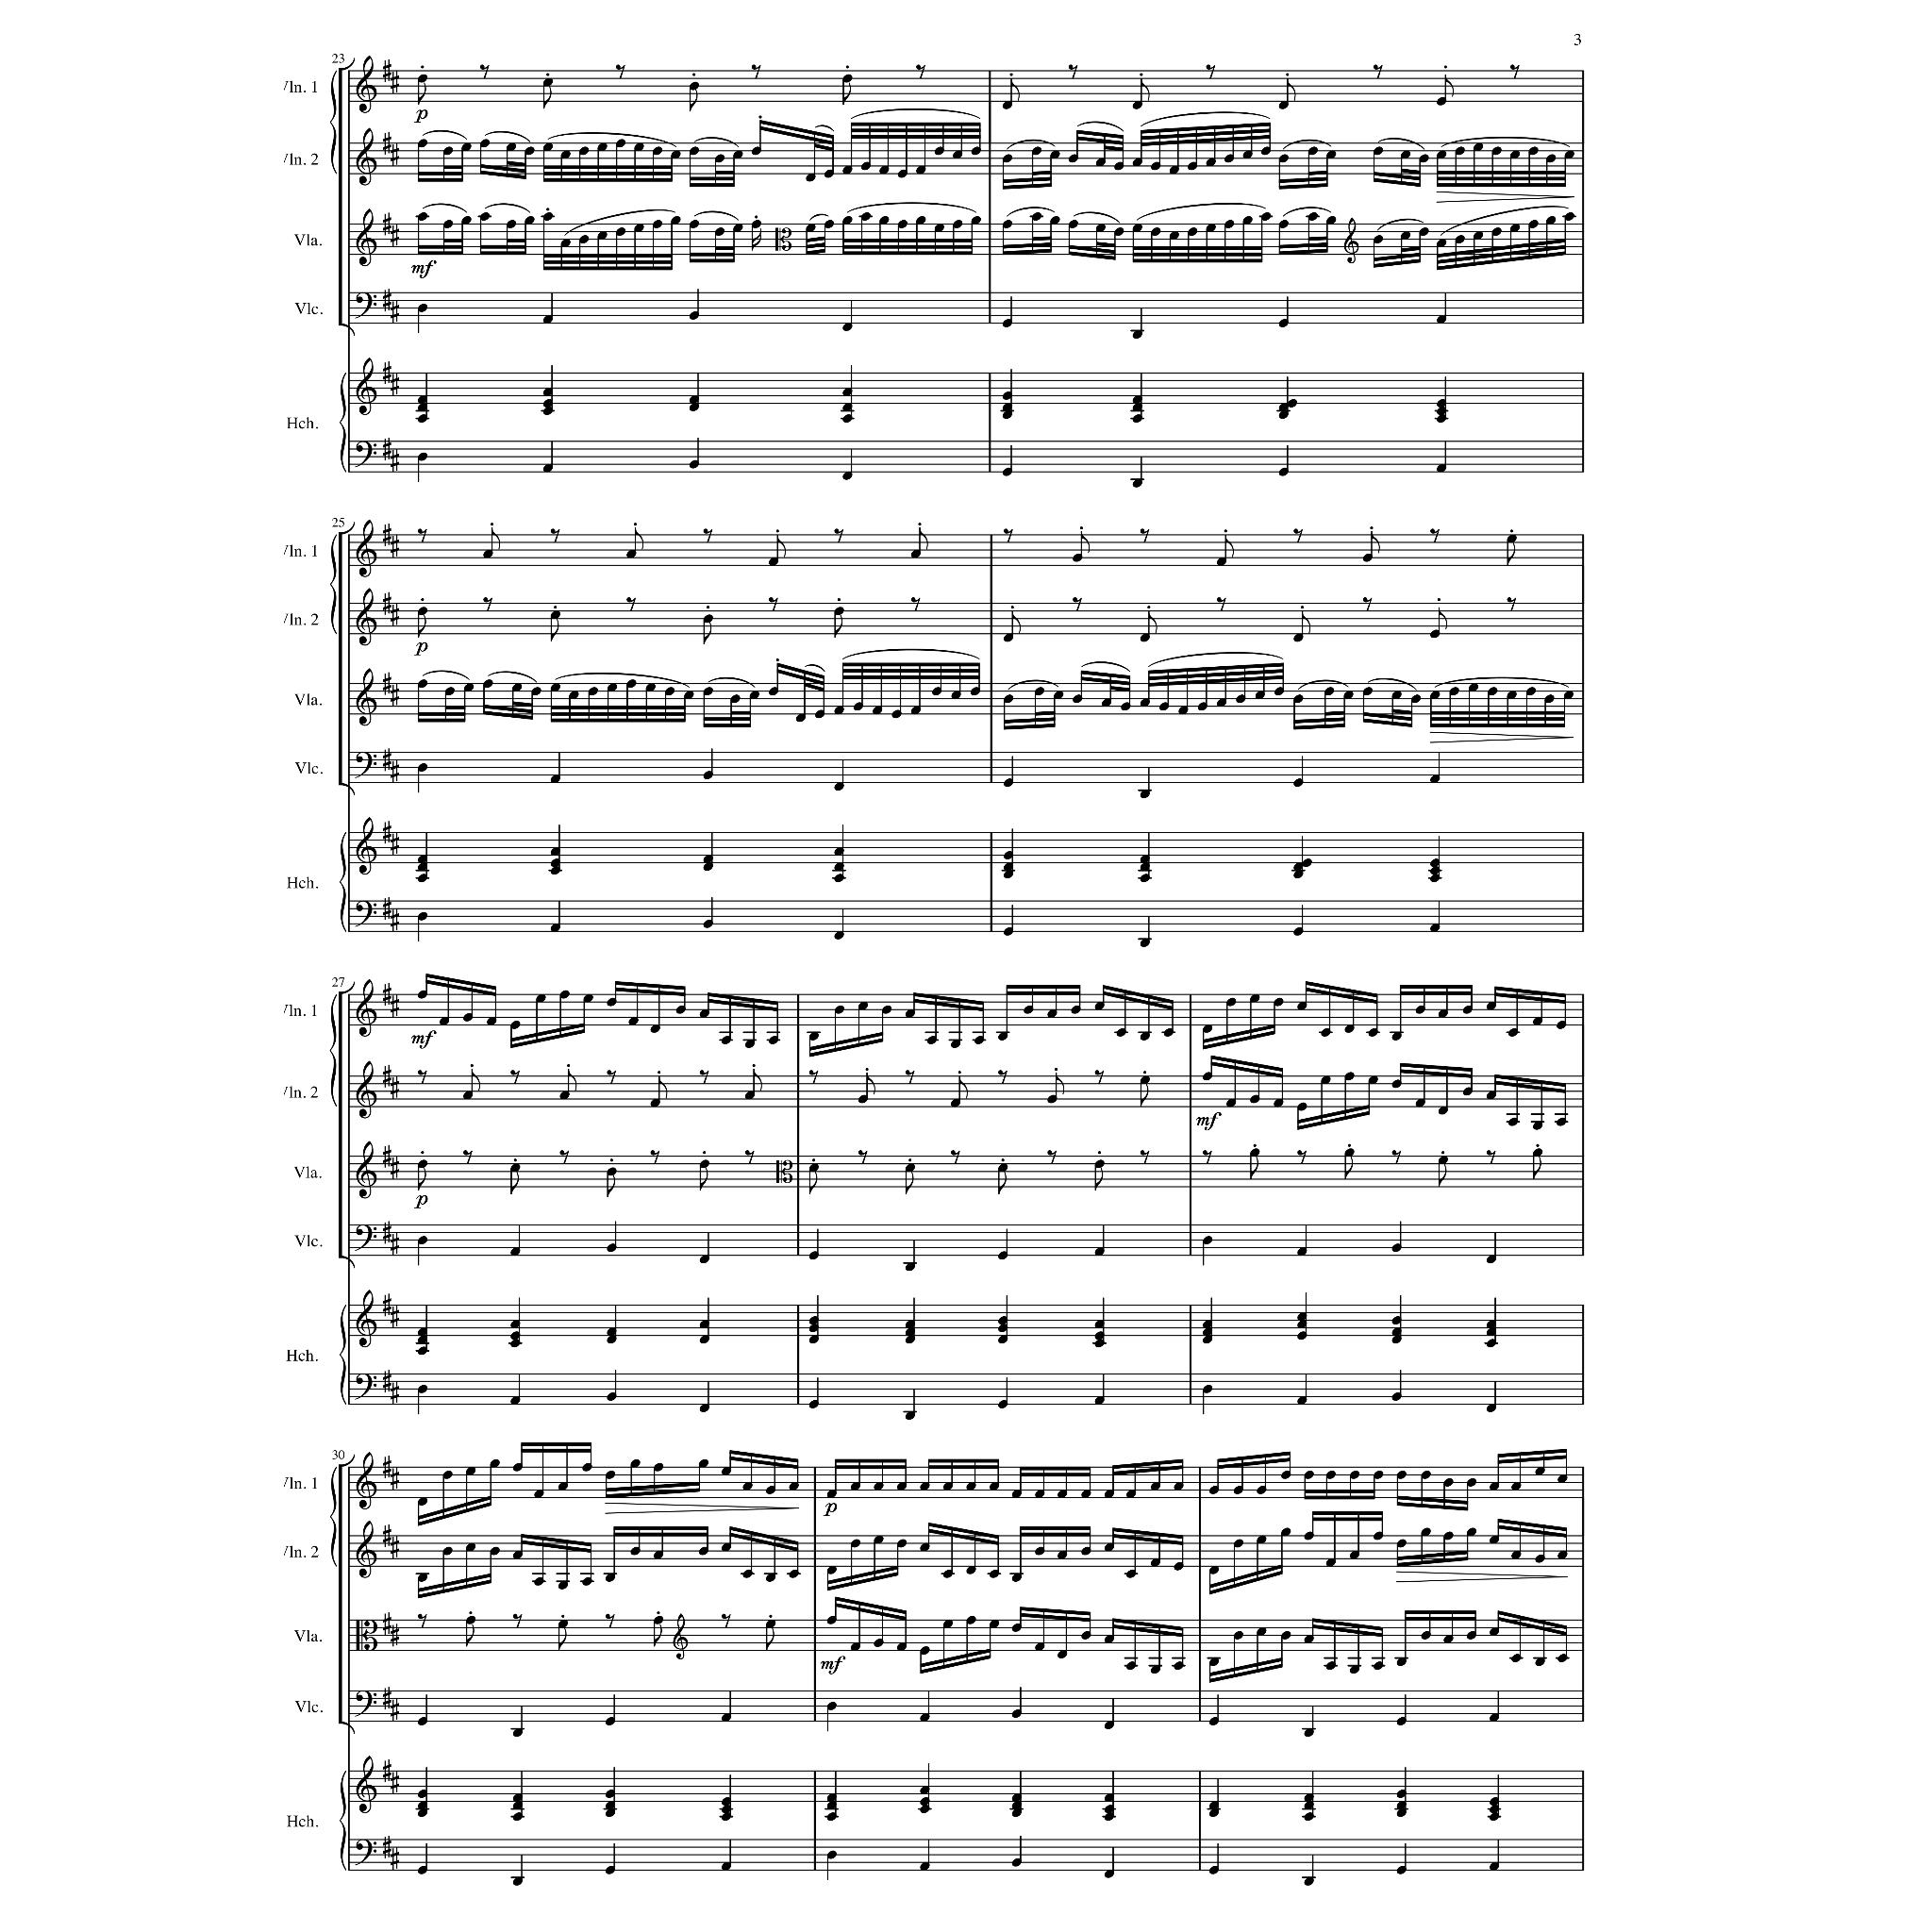brace: (338, 832, 347, 932), (338, 1304, 347, 1405), (338, 373, 347, 472), (338, 1771, 347, 1870), (329, 994, 336, 1108), (329, 71, 336, 175), (329, 534, 336, 635), (329, 1467, 336, 1568)
fClef: (354, 292, 377, 318), (354, 752, 377, 778), (354, 901, 377, 927), (354, 1224, 377, 1251), (354, 1373, 377, 1399), (354, 1840, 377, 1867), (354, 442, 377, 467), (354, 1691, 377, 1716)
flag16thDown: (752, 228, 761, 251)
flag8thDown: (418, 81, 426, 104), (550, 619, 559, 642), (1095, 1168, 1104, 1191), (1345, 1157, 1353, 1180), (1438, 1164, 1447, 1187), (510, 1171, 518, 1194), (607, 1175, 616, 1198), (418, 1168, 426, 1191), (699, 1168, 708, 1191), (809, 1171, 817, 1194), (557, 1628, 566, 1651), (465, 1624, 474, 1647), (418, 616, 426, 637), (844, 81, 851, 104), (690, 88, 697, 111), (704, 621, 711, 644), (1251, 1157, 1258, 1180), (998, 1171, 1005, 1194), (1534, 1157, 1541, 1180), (906, 1171, 913, 1194), (655, 1624, 662, 1647), (766, 1628, 773, 1651), (543, 87, 550, 108), (1507, 543, 1514, 564), (835, 616, 842, 637), (1141, 1085, 1148, 1106)
flag8thUp: (1141, 78, 1150, 101), (1445, 74, 1454, 97), (1010, 78, 1019, 101), (1224, 534, 1233, 557), (1081, 531, 1090, 554), (1371, 531, 1380, 554), (1438, 607, 1447, 630), (777, 534, 786, 557), (1056, 1072, 1065, 1095), (568, 1069, 577, 1092), (658, 1076, 667, 1099), (471, 1069, 479, 1092), (867, 1072, 876, 1095), (959, 1076, 968, 1099), (754, 1069, 763, 1092), (1148, 612, 1157, 633), (1012, 612, 1021, 633), (1302, 612, 1311, 633), (1288, 78, 1295, 101), (492, 527, 499, 550), (635, 527, 642, 550), (920, 527, 927, 550)
gClef: (356, 55, 377, 115), (356, 357, 377, 416), (356, 209, 377, 267), (356, 127, 377, 186), (356, 587, 377, 646), (356, 669, 377, 727), (356, 817, 377, 876), (356, 518, 377, 577), (356, 1141, 377, 1200), (356, 1290, 377, 1348), (356, 978, 377, 1037), (356, 1060, 377, 1118), (356, 1755, 377, 1813), (356, 1520, 377, 1578), (356, 1453, 377, 1511)
noteheadBlack: (1187, 161, 1198, 172), (1150, 161, 1161, 172), (1113, 161, 1123, 172), (1132, 395, 1143, 405), (416, 395, 426, 405), (842, 322, 853, 333), (688, 395, 699, 405), (1139, 789, 1150, 800), (1293, 694, 1304, 704), (1235, 694, 1246, 704), (1072, 552, 1083, 563), (1072, 694, 1083, 704), (1362, 552, 1373, 563), (1410, 694, 1421, 704), (1430, 922, 1440, 932), (1003, 694, 1014, 704), (416, 763, 426, 773), (833, 931, 844, 941), (729, 694, 740, 704), (1249, 993, 1260, 1003), (1463, 1086, 1474, 1097), (582, 993, 593, 1003), (1281, 1527, 1292, 1537), (1467, 1527, 1477, 1537), (1421, 1527, 1431, 1537), (697, 1458, 708, 1468), (630, 1458, 640, 1468), (416, 1497, 426, 1507), (488, 1458, 499, 1468), (872, 1638, 883, 1649), (1187, 228, 1198, 237), (1205, 157, 1215, 166), (1224, 154, 1235, 163), (1168, 232, 1178, 241), (1150, 228, 1161, 237), (1279, 154, 1290, 163), (1279, 467, 1290, 476), (1279, 403, 1290, 412), (1279, 410, 1290, 419), (1279, 318, 1290, 327), (1279, 101, 1290, 110), (1242, 216, 1253, 225), (1242, 150, 1253, 159), (1049, 216, 1060, 225), (1049, 150, 1060, 159), (1031, 212, 1042, 221), (1031, 147, 1042, 156), (1132, 101, 1143, 110), (1113, 228, 1123, 237), (1132, 403, 1143, 412), (1132, 414, 1143, 423), (1132, 331, 1143, 340), (1132, 157, 1143, 166), (1067, 154, 1077, 163), (1095, 157, 1106, 166), (1546, 216, 1557, 225), (1546, 154, 1557, 163), (1564, 212, 1575, 221), (1564, 150, 1575, 159), (1509, 150, 1520, 159), (1491, 228, 1502, 237), (1491, 147, 1502, 156), (1419, 228, 1430, 237), (1419, 154, 1430, 163), (1307, 212, 1318, 221), (1307, 147, 1318, 156), (1373, 235, 1384, 244), (1373, 147, 1384, 156), (1325, 216, 1336, 225), (1325, 150, 1336, 159), (1454, 235, 1465, 244), (1454, 147, 1465, 156), (1437, 400, 1447, 409), (1437, 407, 1447, 416), (1437, 414, 1447, 423), (1437, 315, 1447, 324), (1437, 239, 1447, 248), (1437, 150, 1447, 159), (1437, 97, 1447, 106), (1437, 464, 1447, 472), (579, 235, 589, 244), (579, 147, 589, 156), (559, 239, 570, 248), (559, 150, 570, 159), (541, 78, 552, 87), (524, 216, 534, 225), (524, 147, 534, 156), (541, 387, 552, 396), (541, 464, 552, 472), (541, 400, 552, 409), (541, 407, 552, 416), (541, 315, 552, 324), (541, 212, 552, 221), (541, 143, 552, 152), (651, 147, 662, 156), (633, 143, 644, 152), (671, 150, 681, 159), (671, 216, 681, 225), (596, 232, 607, 241), (596, 143, 607, 152), (614, 228, 625, 237), (416, 304, 426, 313), (416, 403, 426, 412), (416, 414, 426, 423), (416, 212, 426, 221), (416, 74, 426, 83), (460, 216, 471, 225), (460, 143, 471, 152), (442, 147, 453, 156), (879, 216, 890, 225), (862, 161, 870, 172), (897, 170, 908, 179), (842, 387, 853, 396), (842, 471, 853, 479), (842, 403, 853, 412), (842, 414, 853, 423), (842, 216, 853, 225), (842, 74, 853, 83), (970, 147, 980, 156), (970, 216, 980, 225), (915, 216, 925, 225), (732, 150, 743, 159), (713, 228, 724, 237), (713, 154, 724, 163), (750, 147, 761, 156), (688, 403, 699, 412), (688, 460, 699, 469), (688, 147, 699, 156), (688, 81, 699, 90), (805, 173, 816, 182), (823, 170, 833, 179), (1159, 702, 1169, 711), (1139, 874, 1150, 883), (1139, 699, 1150, 708), (1178, 706, 1189, 715), (1196, 702, 1207, 711), (1139, 633, 1150, 642), (1139, 938, 1150, 947), (1139, 855, 1150, 863), (1274, 686, 1284, 695), (1293, 633, 1304, 642), (1293, 778, 1304, 787), (1293, 870, 1304, 879), (1293, 927, 1304, 936), (1003, 778, 1014, 787), (1003, 870, 1014, 879), (1003, 851, 1014, 860), (1003, 927, 1014, 936), (1120, 702, 1131, 711), (1033, 686, 1044, 695), (1525, 686, 1536, 695), (1545, 694, 1553, 704), (1468, 683, 1479, 692), (1506, 534, 1516, 543), (1362, 686, 1373, 695), (1323, 686, 1334, 695), (1430, 630, 1440, 639), (1430, 775, 1440, 784), (1430, 874, 1440, 883), (1430, 867, 1440, 876), (1430, 858, 1440, 867), (550, 922, 559, 932), (511, 683, 522, 692), (531, 686, 541, 695), (626, 679, 637, 688), (644, 683, 655, 692), (663, 686, 674, 695), (587, 686, 598, 695), (607, 683, 617, 692), (444, 686, 455, 695), (416, 607, 426, 616), (416, 679, 426, 688), (416, 874, 426, 883), (416, 855, 426, 863), (416, 911, 426, 920), (853, 702, 863, 711), (794, 713, 805, 722), (814, 709, 824, 718), (833, 607, 844, 616), (833, 706, 844, 715), (833, 782, 844, 791), (833, 874, 844, 883), (833, 847, 844, 856), (970, 686, 980, 695), (1003, 633, 1014, 642), (872, 706, 883, 715), (911, 706, 922, 715), (702, 855, 713, 863), (702, 771, 713, 780), (702, 686, 713, 695), (702, 614, 713, 623), (1297, 1396, 1307, 1405), (1297, 1313, 1307, 1322), (1297, 1320, 1307, 1329), (1297, 1001, 1307, 1010), (1297, 1102, 1307, 1111), (1297, 1247, 1307, 1256), (1226, 998, 1237, 1007), (1226, 1099, 1237, 1108), (1249, 1095, 1260, 1104), (1249, 1148, 1260, 1157), (1070, 1005, 1081, 1014), (1093, 1001, 1104, 1010), (1093, 1247, 1104, 1256), (1093, 1339, 1104, 1348), (1093, 1320, 1104, 1329), (1093, 1396, 1104, 1405), (1023, 1005, 1033, 1014), (1162, 1028, 1173, 1037), (1139, 1076, 1150, 1085), (1507, 1028, 1518, 1037), (1532, 1122, 1543, 1131), (1532, 1148, 1543, 1157), (1486, 1001, 1497, 1010), (1486, 1254, 1497, 1263), (1486, 1339, 1497, 1348), (1486, 1327, 1497, 1336), (1486, 1320, 1497, 1329), (1368, 1028, 1378, 1037), (1368, 1076, 1378, 1085), (1392, 1079, 1403, 1088), (1392, 1244, 1403, 1253), (1392, 1336, 1403, 1345), (1392, 1327, 1403, 1336), (1320, 1076, 1330, 1085), (1320, 1028, 1330, 1037), (1392, 1316, 1403, 1325), (1438, 1008, 1449, 1017), (1438, 1106, 1449, 1115), (1438, 1155, 1449, 1164), (1463, 1005, 1474, 1014), (1392, 1392, 1403, 1401), (1415, 1005, 1426, 1014), (1415, 1099, 1426, 1108), (510, 1320, 520, 1329), (510, 1396, 520, 1405), (536, 993, 545, 1003), (649, 1024, 660, 1033), (649, 1099, 660, 1108), (699, 1008, 709, 1017), (510, 1339, 520, 1348), (416, 1237, 426, 1246), (416, 1346, 426, 1355), (416, 1336, 426, 1345), (462, 1014, 472, 1023), (510, 1021, 520, 1030), (510, 1164, 520, 1173), (510, 1247, 520, 1256), (416, 1327, 426, 1336), (416, 1384, 426, 1392), (881, 1005, 892, 1014), (699, 1254, 709, 1263), (833, 1005, 844, 1014), (856, 1001, 867, 1010), (856, 1095, 867, 1104), (998, 1164, 1008, 1173), (998, 1251, 1008, 1260), (998, 1336, 1008, 1345), (998, 1323, 1008, 1332), (998, 1316, 1008, 1325), (925, 1037, 936, 1046), (950, 1040, 961, 1049), (950, 1099, 961, 1108), (743, 1040, 754, 1049), (768, 1037, 778, 1046), (699, 1336, 709, 1345), (699, 1320, 709, 1329), (720, 1037, 731, 1046), (809, 1164, 819, 1173), (809, 1336, 819, 1345), (809, 1323, 819, 1332), (809, 1251, 819, 1260), (809, 1316, 819, 1325), (1208, 1808, 1219, 1817), (1208, 1865, 1219, 1874), (1208, 1801, 1219, 1810), (1208, 1658, 1219, 1667), (1208, 1566, 1219, 1575), (1281, 1631, 1292, 1640), (1233, 1631, 1244, 1640), (1233, 1539, 1244, 1548), (1256, 1536, 1267, 1545), (1104, 1794, 1115, 1803), (1104, 1805, 1115, 1813), (1104, 1721, 1115, 1730), (1104, 1635, 1115, 1644), (1104, 1543, 1115, 1552), (1104, 1490, 1115, 1499), (1035, 1546, 1046, 1555), (1035, 1490, 1046, 1499), (1056, 1651, 1067, 1660), (1056, 1550, 1067, 1559), (1056, 1490, 1067, 1499), (1150, 1665, 1161, 1674), (1150, 1483, 1161, 1491), (1173, 1661, 1184, 1670), (1173, 1562, 1184, 1571), (1173, 1483, 1184, 1491), (1125, 1490, 1136, 1499), (1125, 1661, 1136, 1670), (1125, 1569, 1136, 1578), (1534, 1553, 1545, 1562), (1534, 1467, 1545, 1476), (1534, 1658, 1545, 1667), (1511, 1654, 1522, 1663), (1511, 1550, 1522, 1559), (1557, 1654, 1568, 1663), (1557, 1550, 1568, 1559), (1557, 1474, 1568, 1483), (1511, 1483, 1522, 1491), (1490, 1798, 1500, 1806), (1490, 1861, 1500, 1870), (1490, 1805, 1500, 1813), (1490, 1536, 1500, 1545), (1490, 1483, 1500, 1491), (1373, 1661, 1384, 1670), (1396, 1865, 1407, 1874), (1396, 1790, 1407, 1799), (1396, 1801, 1407, 1810), (1396, 1808, 1407, 1817), (1396, 1658, 1407, 1667), (1396, 1539, 1407, 1548), (1325, 1661, 1336, 1670), (1350, 1665, 1361, 1674), (1350, 1550, 1361, 1559), (1467, 1631, 1477, 1640), (1467, 1479, 1477, 1488), (1421, 1631, 1431, 1640), (582, 1578, 593, 1587), (582, 1463, 593, 1472), (557, 1619, 568, 1628), (557, 1580, 568, 1589), (557, 1483, 568, 1491), (697, 1546, 708, 1555), (630, 1546, 640, 1555), (653, 1615, 663, 1624), (653, 1550, 663, 1559), (653, 1463, 663, 1472), (416, 1573, 426, 1582), (416, 1865, 426, 1874), (416, 1790, 426, 1799), (416, 1801, 426, 1810), (416, 1808, 426, 1817), (511, 1550, 522, 1559), (511, 1463, 522, 1472), (511, 1729, 522, 1737), (488, 1546, 499, 1555), (511, 1877, 522, 1886), (511, 1794, 522, 1803), (511, 1801, 522, 1810), (442, 1546, 453, 1555), (872, 1536, 883, 1545), (872, 1483, 883, 1491), (897, 1539, 908, 1548), (897, 1483, 908, 1491), (989, 1619, 1000, 1628), (989, 1569, 1000, 1578), (989, 1483, 1000, 1491), (1010, 1858, 1021, 1867), (1010, 1794, 1021, 1803), (1010, 1801, 1021, 1810), (1010, 1808, 1021, 1817), (1010, 1709, 1021, 1718), (1010, 1624, 1021, 1633), (1010, 1573, 1021, 1582), (1010, 1490, 1021, 1499), (941, 1619, 952, 1628), (941, 1569, 952, 1578), (941, 1483, 952, 1491), (966, 1615, 977, 1624), (966, 1566, 977, 1575), (966, 1483, 977, 1491), (787, 1569, 798, 1578), (787, 1483, 798, 1491), (826, 1851, 837, 1859), (826, 1794, 837, 1803), (826, 1801, 837, 1810), (826, 1702, 837, 1711), (826, 1566, 837, 1575), (826, 1490, 837, 1499), (741, 1569, 752, 1578), (741, 1483, 752, 1491), (766, 1619, 777, 1628), (766, 1573, 777, 1582), (826, 1615, 837, 1624), (851, 1539, 862, 1548), (851, 1483, 862, 1491), (1288, 400, 1297, 409), (1261, 147, 1270, 156), (1261, 212, 1270, 221), (1529, 147, 1537, 156), (1401, 232, 1410, 241), (1401, 150, 1410, 159), (1474, 232, 1483, 241), (1474, 143, 1483, 152), (479, 212, 488, 221), (506, 143, 515, 152), (862, 212, 870, 221), (1003, 410, 1012, 419), (1003, 467, 1012, 476), (1003, 403, 1012, 412), (1003, 318, 1012, 327), (1003, 154, 1012, 163), (1003, 101, 1012, 110), (954, 150, 962, 159), (934, 147, 943, 156), (1302, 858, 1311, 867), (1217, 557, 1226, 566), (1217, 699, 1226, 708), (1102, 699, 1111, 708), (1488, 686, 1497, 695), (1449, 686, 1458, 695), (550, 610, 559, 619), (550, 683, 559, 692), (550, 775, 559, 784), (550, 867, 559, 876), (550, 858, 559, 867), (550, 847, 559, 856), (483, 679, 492, 688), (464, 683, 472, 692), (932, 686, 941, 695), (892, 709, 901, 718), (770, 686, 778, 695), (770, 557, 778, 566), (1274, 998, 1283, 1007), (1274, 1099, 1283, 1108), (1047, 1008, 1056, 1017), (1047, 1095, 1056, 1104), (1203, 1024, 1212, 1033), (1203, 1072, 1212, 1081), (1203, 1237, 1212, 1246), (1203, 1336, 1212, 1345), (1203, 1327, 1212, 1336), (1203, 1320, 1212, 1329), (1203, 1384, 1212, 1392), (1116, 1028, 1125, 1037), (1557, 1021, 1566, 1030), (1345, 1024, 1353, 1033), (1345, 1072, 1353, 1081), (1345, 1148, 1353, 1157), (607, 998, 616, 1007), (607, 1168, 616, 1177), (607, 1244, 616, 1253), (676, 1005, 685, 1014), (607, 1336, 616, 1345), (607, 1327, 616, 1336), (607, 1392, 616, 1401), (906, 1008, 915, 1017), (906, 1164, 915, 1173), (906, 1336, 915, 1345), (906, 1327, 915, 1336), (906, 1320, 915, 1329), (906, 1412, 915, 1421), (975, 1037, 984, 1046), (1304, 1877, 1313, 1886), (1304, 1794, 1313, 1803), (1304, 1801, 1313, 1810), (1304, 1729, 1313, 1737), (1304, 1635, 1313, 1644), (1081, 1631, 1090, 1640), (1081, 1546, 1090, 1555), (1081, 1490, 1090, 1499), (1444, 1635, 1453, 1644), (1444, 1479, 1453, 1488), (605, 1573, 614, 1582), (605, 1808, 614, 1817), (605, 1865, 614, 1874), (605, 1790, 614, 1799), (605, 1801, 614, 1810), (534, 1578, 543, 1587), (534, 1490, 543, 1499), (722, 1861, 731, 1870), (722, 1798, 731, 1806), (722, 1805, 731, 1813), (722, 1543, 731, 1552), (722, 1467, 731, 1476), (465, 1615, 474, 1624), (465, 1543, 474, 1552), (465, 1467, 474, 1476), (920, 1543, 929, 1552), (920, 1861, 929, 1870), (920, 1785, 929, 1794), (920, 1798, 929, 1806), (920, 1805, 929, 1813), (920, 1647, 929, 1656), (920, 1483, 929, 1491), (1205, 225, 1215, 232), (1168, 166, 1178, 173), (1279, 221, 1290, 228), (1224, 221, 1235, 228), (1132, 479, 1143, 487), (1132, 225, 1143, 232), (1067, 221, 1077, 228), (1095, 225, 1106, 232), (1509, 225, 1520, 232), (651, 221, 662, 228), (633, 225, 644, 232), (614, 140, 625, 147), (416, 453, 426, 460), (416, 140, 426, 147), (442, 221, 453, 228), (879, 166, 890, 173), (897, 221, 908, 228), (842, 166, 853, 173), (915, 166, 925, 173), (750, 221, 761, 228), (732, 225, 743, 232), (688, 311, 699, 318), (688, 221, 699, 228), (805, 225, 816, 232), (823, 221, 833, 228), (1139, 863, 1150, 870), (1254, 692, 1265, 699), (1293, 863, 1304, 870), (1003, 863, 1014, 870), (1053, 692, 1063, 699), (1564, 692, 1575, 699), (1506, 692, 1516, 699), (1343, 692, 1353, 699), (1392, 692, 1403, 699), (1430, 692, 1440, 699), (626, 550, 637, 557), (568, 692, 579, 699), (416, 863, 426, 870), (833, 863, 844, 870), (950, 692, 961, 699), (911, 550, 922, 557), (702, 863, 713, 870), (748, 692, 759, 699), (702, 920, 713, 927), (683, 692, 694, 699), (1297, 1332, 1307, 1339), (1093, 1161, 1104, 1168), (1093, 1332, 1104, 1339), (1139, 1033, 1150, 1040), (1507, 1118, 1518, 1125), (1532, 1017, 1543, 1024), (1486, 1092, 1497, 1099), (1486, 1405, 1497, 1412), (1392, 1033, 1403, 1040), (559, 991, 570, 998), (559, 1092, 570, 1099), (510, 1332, 520, 1339), (699, 1161, 709, 1168), (628, 1017, 639, 1024), (416, 991, 426, 998), (416, 1161, 426, 1168), (462, 1092, 472, 1099), (485, 1017, 495, 1024), (439, 1017, 449, 1024), (998, 1033, 1008, 1040), (998, 1401, 1008, 1408), (743, 1092, 754, 1099), (809, 1033, 819, 1040), (699, 1405, 709, 1412), (809, 1401, 819, 1408), (1208, 1718, 1219, 1725), (1208, 1486, 1219, 1493), (1281, 1472, 1292, 1479), (1233, 1486, 1244, 1493), (1256, 1628, 1267, 1635), (1256, 1486, 1267, 1493), (1104, 1813, 1115, 1821), (1035, 1644, 1046, 1651), (1104, 1870, 1115, 1877), (1150, 1559, 1161, 1566), (1490, 1813, 1500, 1821), (1490, 1714, 1500, 1721), (1490, 1628, 1500, 1635), (1373, 1532, 1384, 1539), (1373, 1472, 1384, 1479), (1396, 1718, 1407, 1725), (1396, 1472, 1407, 1479), (1325, 1559, 1336, 1566), (1325, 1472, 1336, 1479), (1350, 1472, 1361, 1479), (1421, 1472, 1431, 1479), (416, 1718, 426, 1725), (511, 1813, 522, 1821), (442, 1472, 453, 1479), (897, 1644, 908, 1651), (826, 1813, 837, 1821), (766, 1486, 777, 1493), (851, 1644, 862, 1651), (1529, 221, 1537, 228), (479, 140, 488, 147), (506, 221, 515, 228), (1003, 393, 1012, 400), (1003, 221, 1012, 228), (954, 221, 962, 228), (934, 225, 943, 232), (483, 550, 492, 557), (1557, 1118, 1566, 1125), (906, 1263, 915, 1270), (1304, 1472, 1313, 1479), (1304, 1813, 1313, 1821), (1304, 1532, 1313, 1539), (1444, 1532, 1453, 1539), (605, 1718, 614, 1725), (605, 1472, 614, 1479), (722, 1813, 731, 1821), (722, 1714, 731, 1721), (920, 1714, 929, 1721)
rest8th: (1205, 64, 1215, 80), (1373, 64, 1384, 80), (750, 64, 761, 80), (1486, 1150, 1497, 1166), (1391, 1150, 1401, 1166), (559, 1150, 570, 1166), (649, 1150, 660, 1166), (462, 1150, 472, 1166), (1072, 598, 1083, 612), (1430, 529, 1440, 543), (833, 529, 844, 543), (702, 529, 713, 543), (510, 1070, 520, 1085), (904, 1070, 915, 1085), (720, 1614, 731, 1628), (1069, 64, 1077, 80), (1511, 64, 1520, 80), (616, 64, 625, 80), (479, 64, 488, 80), (916, 64, 925, 80), (1297, 1150, 1306, 1166), (1047, 1150, 1056, 1166), (1139, 1150, 1148, 1166), (1203, 1150, 1212, 1166), (858, 1150, 867, 1166), (950, 1150, 959, 1166), (745, 1150, 754, 1166), (1293, 529, 1302, 543), (1217, 598, 1226, 612), (1139, 529, 1148, 543), (1507, 598, 1516, 612), (1362, 598, 1371, 612), (550, 529, 559, 543), (626, 598, 635, 612), (483, 598, 492, 612), (418, 529, 426, 543), (1003, 529, 1012, 543), (911, 598, 920, 612), (768, 598, 777, 612), (1095, 1070, 1104, 1085), (607, 1070, 616, 1085), (699, 1070, 708, 1085), (418, 1070, 426, 1085), (998, 1070, 1007, 1085), (809, 1070, 817, 1085), (605, 1614, 614, 1628), (418, 1614, 426, 1628), (513, 1614, 522, 1628)
